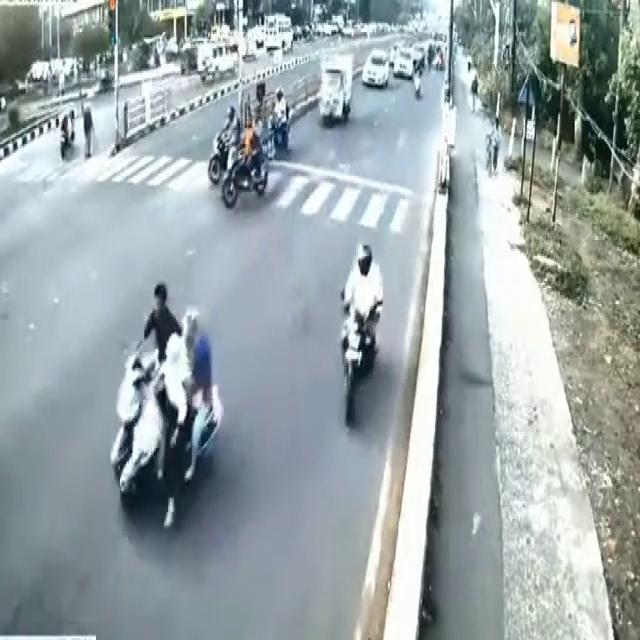accident: (92, 254, 238, 546)
